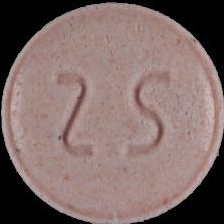0781-5310: (0, 0, 224, 224)
